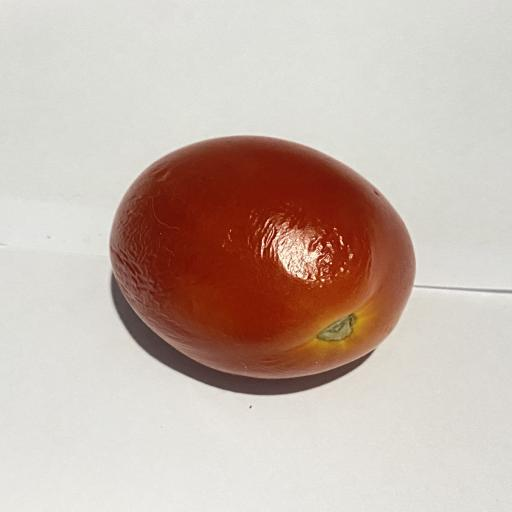spoiled: (110, 136, 415, 378)
